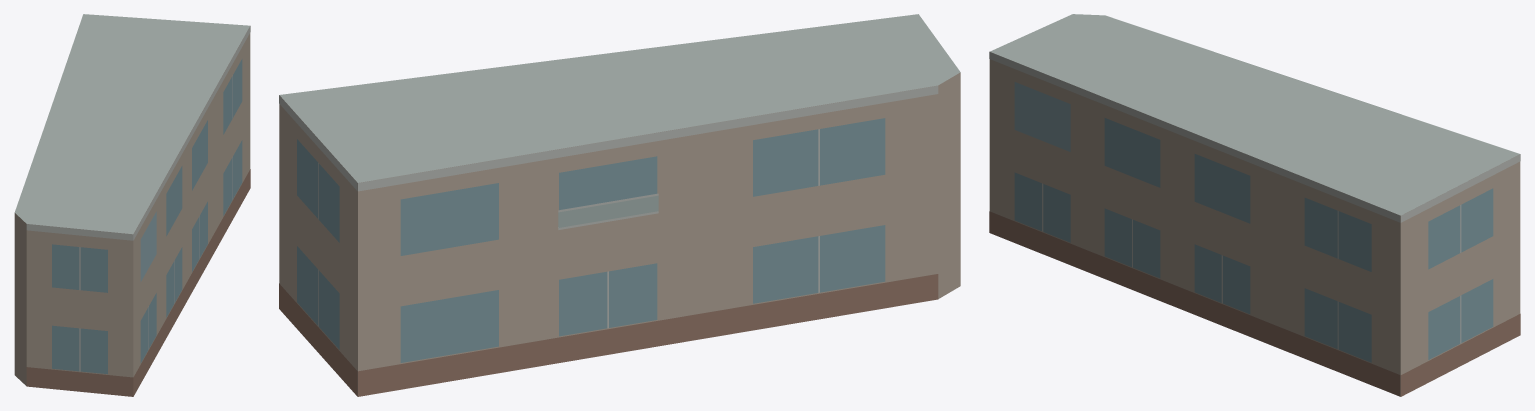
Rendered from survey-upis-32555872.glb.
The picture shows the model from 3 angles, left to right: view 1: azimuth 30°, elevation 25°; view 2: azimuth 150°, elevation 25°; view 3: azimuth 270°, elevation 25°; orthographic projection. The views are drawn at different scales.
Parts seen in each view (by area): view 1: survey-upis-32555872.tmp; view 2: survey-upis-32555872.tmp; view 3: survey-upis-32555872.tmp.
Boxes of the visible parts, left/top/right/bottom form: survey-upis-32555872.tmp: left=14, top=14, right=250, bottom=396; survey-upis-32555872.tmp: left=279, top=14, right=960, bottom=396; survey-upis-32555872.tmp: left=989, top=14, right=1520, bottom=396.
Bounding box in the file's own units: 14.57 × 6.1 × 16.2.
